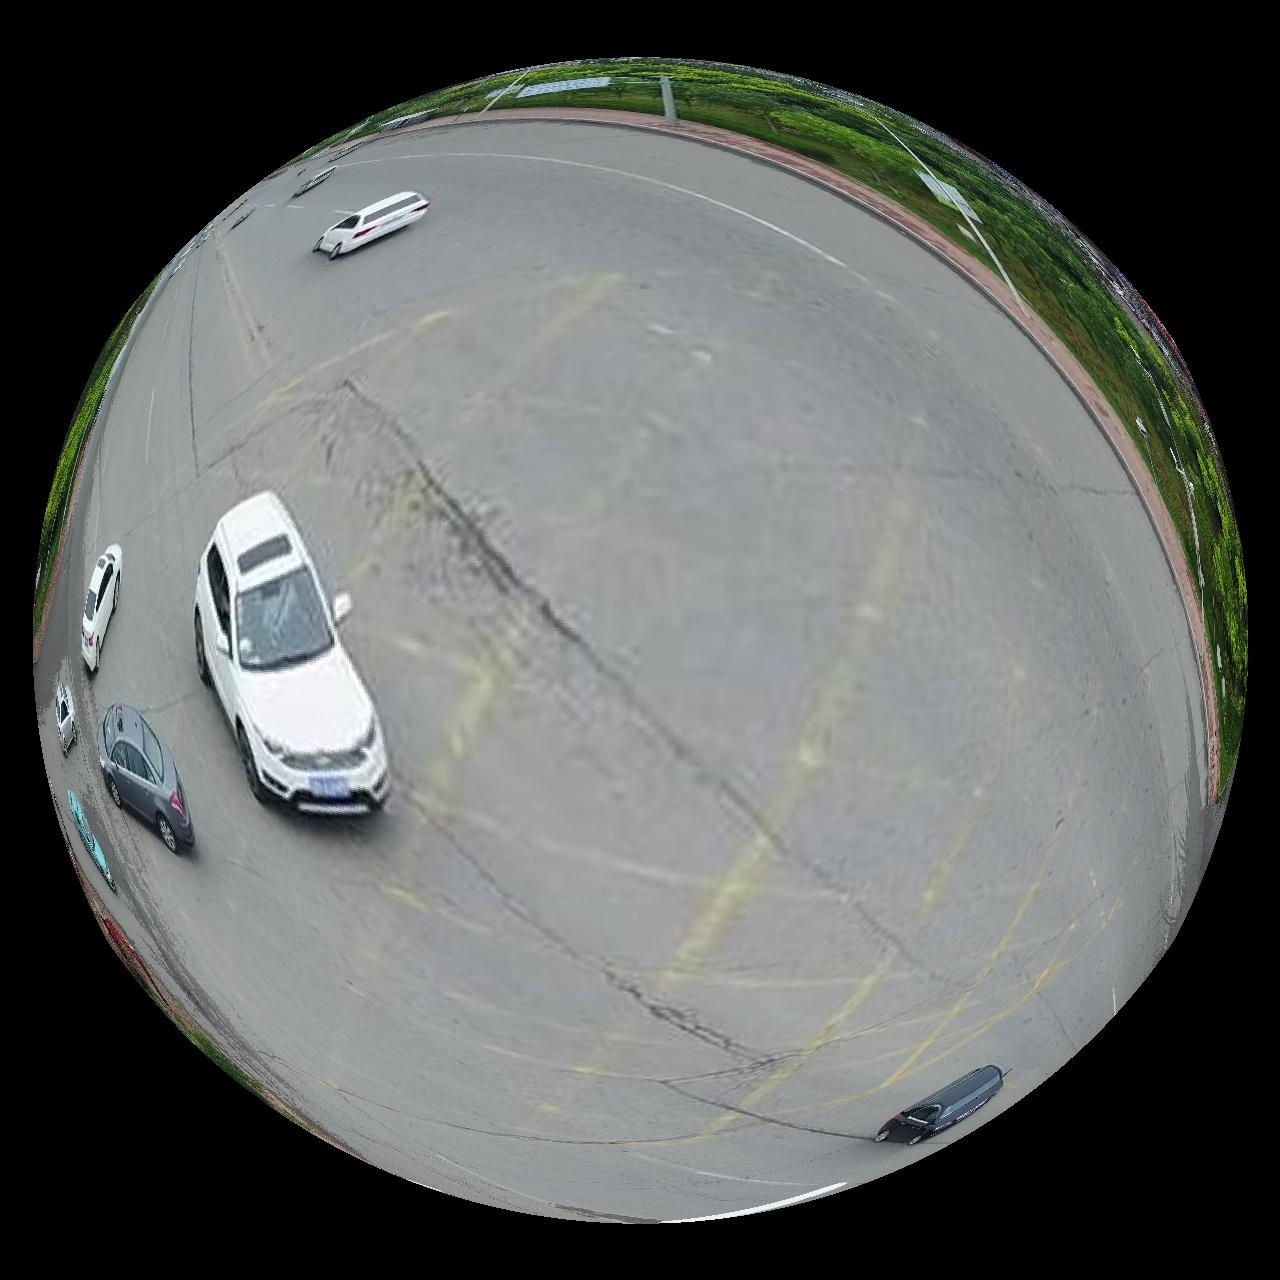cars: (193, 491, 389, 816), (97, 705, 194, 854), (877, 1067, 1006, 1148), (313, 190, 430, 258), (80, 544, 121, 674), (66, 790, 113, 892), (52, 683, 77, 754), (291, 164, 337, 196)
trees: (322, 58, 1249, 792), (35, 351, 114, 612)
